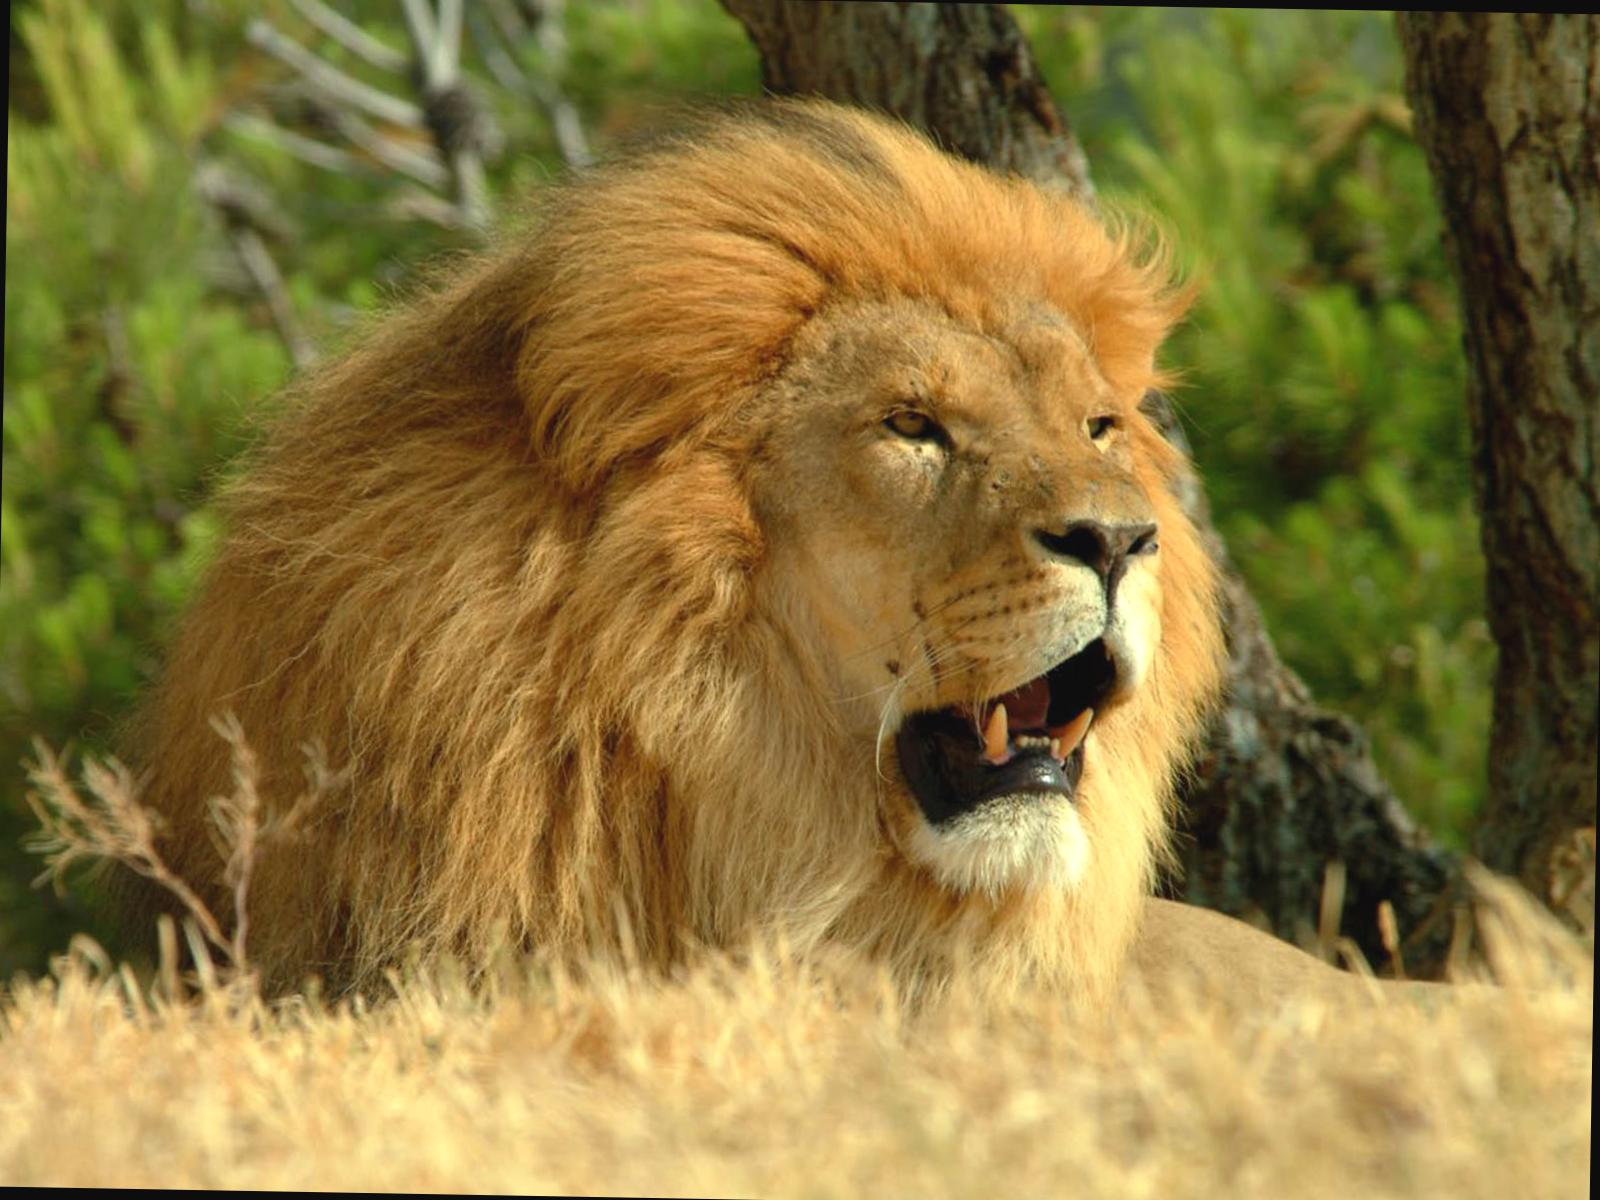lions: (66, 66, 1359, 1042)
